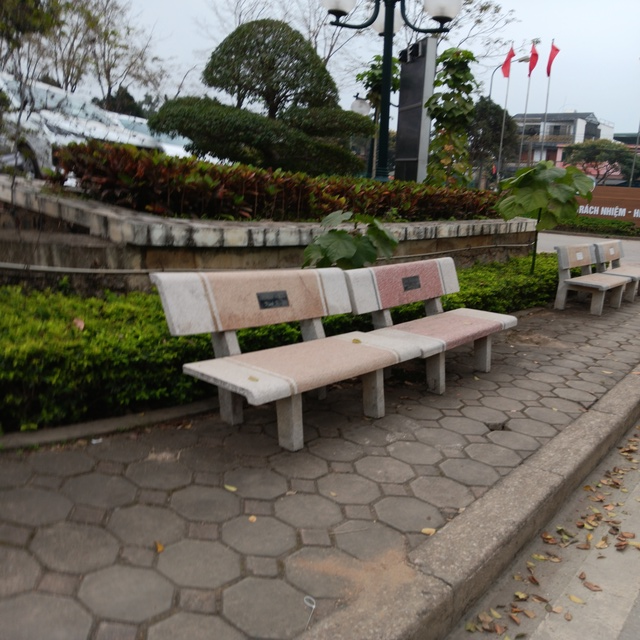gheda: (132, 260, 423, 442), (330, 251, 528, 395), (549, 242, 635, 327), (592, 233, 640, 303)
